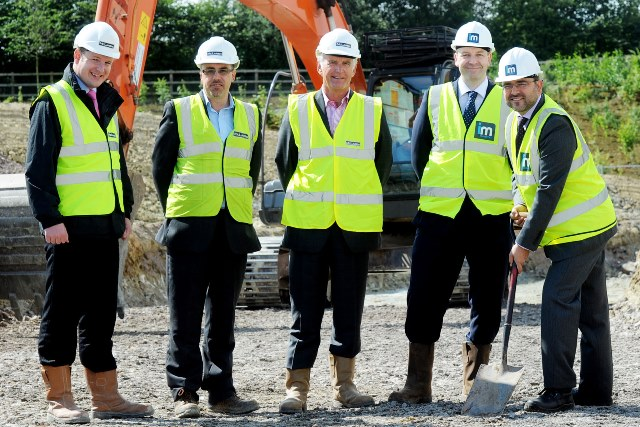Helmet: (190, 34, 245, 105), (494, 45, 548, 116), (69, 17, 121, 90), (310, 27, 364, 97), (448, 19, 497, 89)
Reflective vest: (504, 94, 618, 251), (279, 89, 388, 236), (27, 76, 134, 221), (417, 78, 516, 224), (165, 90, 258, 230)
